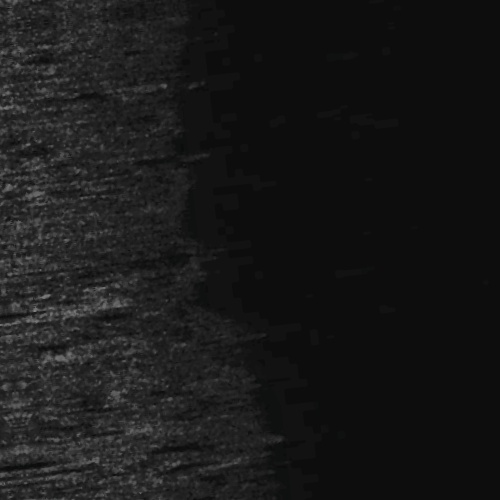object: (6, 282, 111, 297), (0, 463, 36, 480), (0, 74, 47, 81)
shadow: (0, 282, 59, 297), (0, 74, 15, 81)
